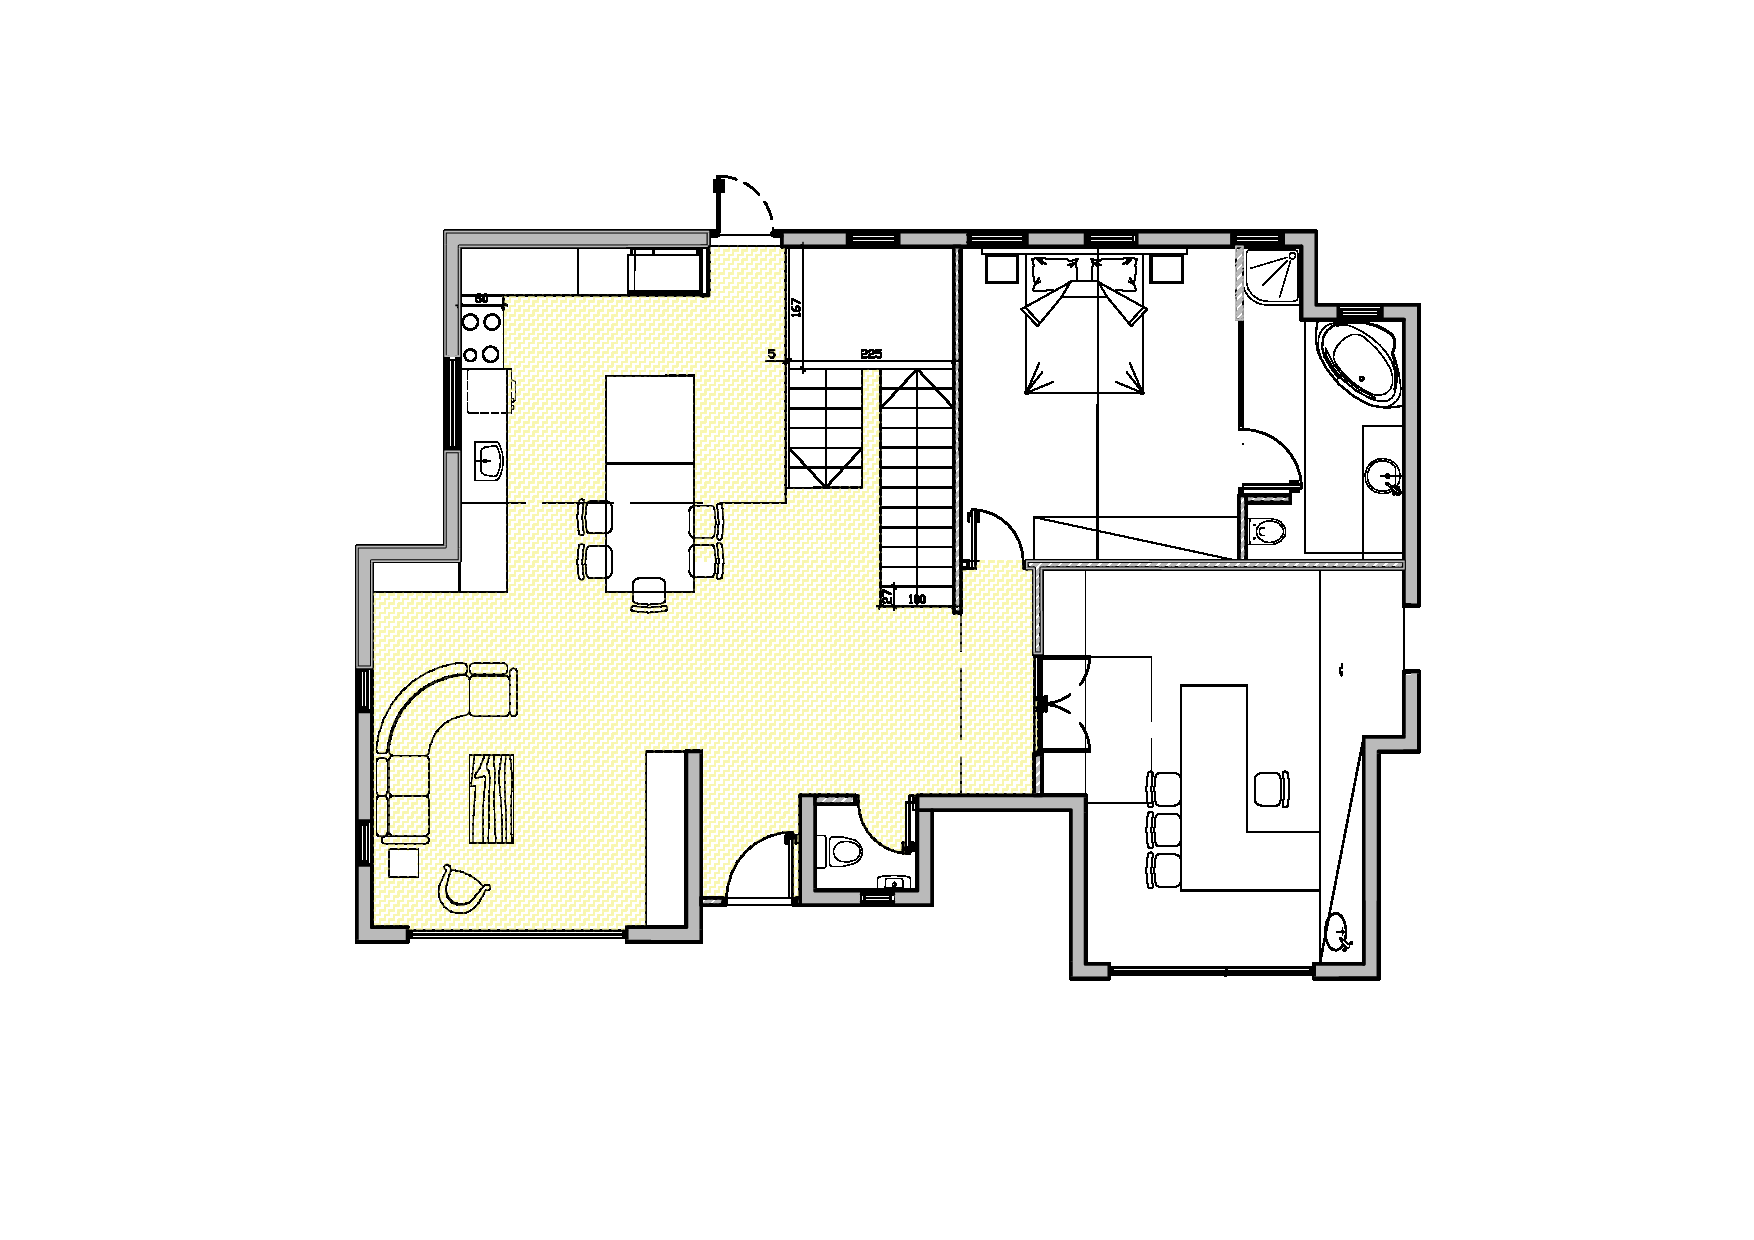door: (717, 831, 792, 892), (707, 176, 784, 228), (1251, 425, 1299, 476), (969, 509, 1021, 556)
wall: (444, 229, 699, 248), (1408, 309, 1420, 603), (1067, 817, 1088, 980), (1363, 735, 1377, 966), (915, 794, 1087, 811), (688, 749, 701, 922), (444, 451, 462, 561), (358, 570, 374, 666), (913, 817, 930, 905), (1302, 236, 1321, 315), (1143, 231, 1227, 248), (358, 545, 443, 561), (803, 797, 815, 905), (360, 718, 372, 820), (625, 925, 702, 941), (903, 231, 969, 248), (444, 259, 456, 353), (1321, 964, 1380, 982), (1406, 672, 1420, 749), (360, 870, 370, 941), (1035, 235, 1087, 246), (376, 933, 403, 941)
